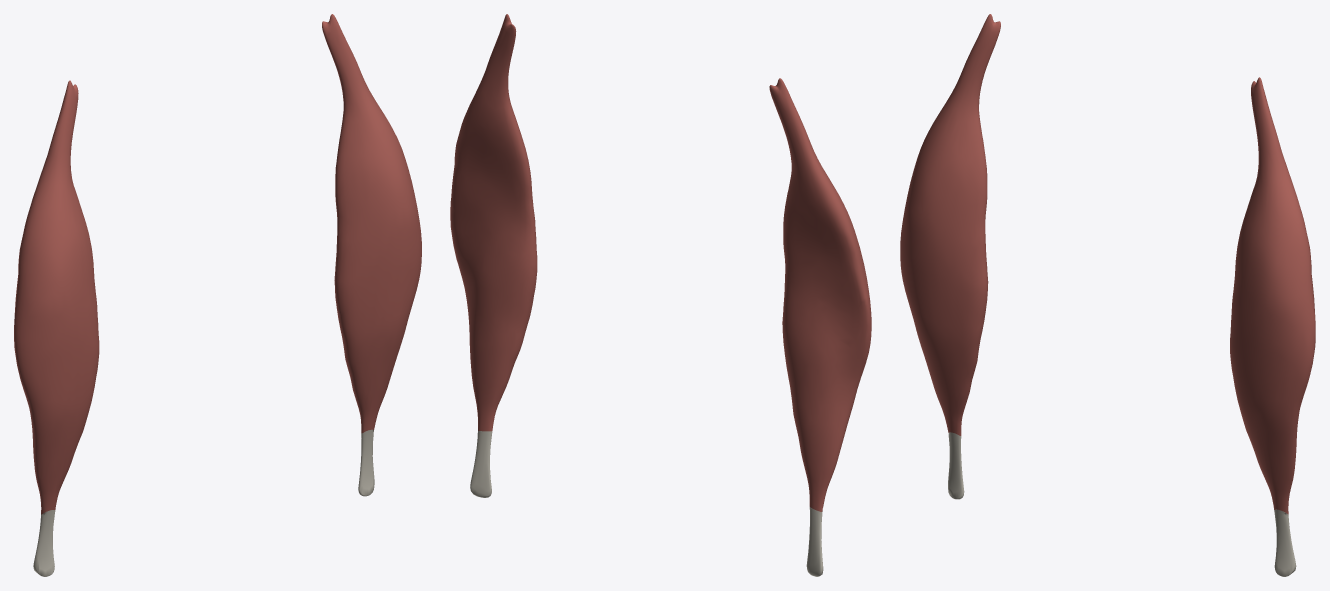
Rendered from adult_female.muscular.LOD1.glb.
3 views of the same model, side by side, from view 1: azimuth 30°, elevation 25°; view 2: azimuth 150°, elevation 25°; view 3: azimuth 330°, elevation 25° (orthographic). The views are drawn at different scales.
Visible parts, largest first — view 1: ADULT.FEMALE.MUSCULAR.RECTUS_FEMORIS.L, ADULT.FEMALE.MUSCULAR.RECTUS_FEMORIS.R, ADULT.FEMALE.MUSCULAR.TENDON_OF_QUADRICEPS_FEMORIS.R, ADULT.FEMALE.MUSCULAR.TENDON_OF_QUADRICEPS_FEMORIS.L; view 2: ADULT.FEMALE.MUSCULAR.RECTUS_FEMORIS.R, ADULT.FEMALE.MUSCULAR.RECTUS_FEMORIS.L, ADULT.FEMALE.MUSCULAR.TENDON_OF_QUADRICEPS_FEMORIS.L, ADULT.FEMALE.MUSCULAR.TENDON_OF_QUADRICEPS_FEMORIS.R; view 3: ADULT.FEMALE.MUSCULAR.RECTUS_FEMORIS.R, ADULT.FEMALE.MUSCULAR.RECTUS_FEMORIS.L, ADULT.FEMALE.MUSCULAR.TENDON_OF_QUADRICEPS_FEMORIS.L, ADULT.FEMALE.MUSCULAR.TENDON_OF_QUADRICEPS_FEMORIS.R.
Part boxes in pixels (x1,y1,x2,y2): ADULT.FEMALE.MUSCULAR.RECTUS_FEMORIS.L: (322, 14, 421, 433); ADULT.FEMALE.MUSCULAR.RECTUS_FEMORIS.R: (14, 80, 99, 514); ADULT.FEMALE.MUSCULAR.TENDON_OF_QUADRICEPS_FEMORIS.R: (33, 510, 55, 576); ADULT.FEMALE.MUSCULAR.TENDON_OF_QUADRICEPS_FEMORIS.L: (358, 429, 374, 496); ADULT.FEMALE.MUSCULAR.RECTUS_FEMORIS.R: (769, 78, 871, 511); ADULT.FEMALE.MUSCULAR.RECTUS_FEMORIS.L: (450, 14, 537, 431); ADULT.FEMALE.MUSCULAR.TENDON_OF_QUADRICEPS_FEMORIS.L: (470, 431, 492, 497); ADULT.FEMALE.MUSCULAR.TENDON_OF_QUADRICEPS_FEMORIS.R: (806, 507, 823, 576); ADULT.FEMALE.MUSCULAR.RECTUS_FEMORIS.R: (900, 14, 1000, 435); ADULT.FEMALE.MUSCULAR.RECTUS_FEMORIS.L: (1230, 77, 1315, 514); ADULT.FEMALE.MUSCULAR.TENDON_OF_QUADRICEPS_FEMORIS.L: (1274, 509, 1296, 576); ADULT.FEMALE.MUSCULAR.TENDON_OF_QUADRICEPS_FEMORIS.R: (948, 432, 964, 499).
Bounding box in the file's own units: 0.3555 × 0.4035 × 0.0508.
